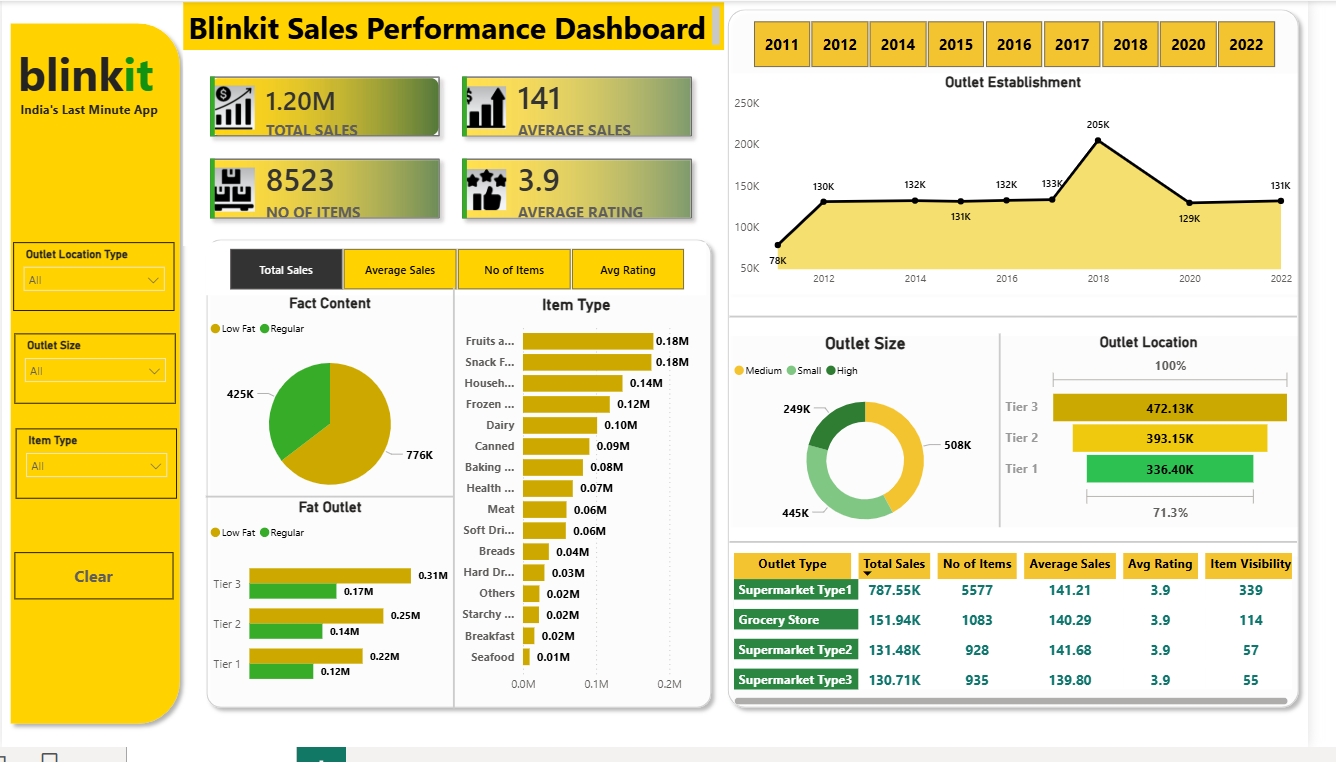

What the dashboard file says about the page in this screenshot:
{"tool":"powerbi","page":{"name":"Blinkit dashboard","canvas":[1400,800],"ordinal":0},"visuals":[{"type":"shape","box":[0,14.7,199.7,769.4],"z":0},{"type":"textbox","box":[12.1,40.2,156.8,75.1],"z":1000},{"type":"textbox","box":[14.7,101.9,159.5,34.9],"z":2000},{"type":"cardVisual","fields":{"Data":["Measure Table.Total Sales","Measure Table.Average Sales","Measure Table.No of Items","Measure Table.Avg Rating"]},"box":[194.3,52.9,574.3,210],"z":3000},{"type":"shape","box":[210.5,246.7,559,520.1],"z":4000},{"type":"pieChart","title":"Fact Content","fields":{"Y":["Measure Table.Total Sales"],"Category":["BlinkIT Grocery Data.Item Fat Content"]},"box":[218.5,315,266.8,231.9],"z":5000},{"type":"slicer","fields":{"Values":["Metrics.Metrics"]},"box":[218.6,258.6,537.1,57.1],"z":6000},{"type":"clusteredBarChart","title":"Fat Outlet","fields":{"Y":["Measure Table.Total Sales"],"Category":["BlinkIT Grocery Data.Outlet Location Type"],"Series":["BlinkIT Grocery Data.Item Fat Content"]},"box":[218.5,533.5,266.8,217.2],"z":7000},{"type":"shape","box":[218.5,506.7,266.8,49.6],"z":8000},{"type":"shape","box":[459.8,307,49.6,451.7],"z":9000},{"type":"barChart","title":"Item Type","fields":{"Y":["Measure Table.Total Sales"],"Category":["BlinkIT Grocery Data.Item Type"]},"box":[475.9,315,280.2,435.7],"z":10000},{"type":"shape","box":[769.4,0,630,766.8],"z":11000},{"type":"lineChart","title":"Outlet Establishment","fields":{"Category":["BlinkIT Grocery Data.Outlet Establishment Year"],"Y":["Measure Table.Total Sales"]},"box":[780,77.1,608.6,237.1],"z":12000},{"type":"shape","box":[780,317.1,608.6,41.4],"z":13000},{"type":"donutChart","title":"Outlet Size","fields":{"Y":["Measure Table.Total Sales"],"Category":["BlinkIT Grocery Data.Outlet Size"]},"box":[780,357.1,291.4,224.3],"z":14000},{"type":"shape","box":[1044.3,357.1,51.4,225.7],"z":15000},{"type":"funnel","title":"Outlet Location","fields":{"Category":["BlinkIT Grocery Data.Outlet Location Type"],"Y":["Measure Table.Total Sales"]},"box":[1071.4,357.1,317.1,207.1],"z":16000},{"type":"shape","box":[780,564.3,608.6,31.4],"z":17000},{"type":"pivotTable","fields":{"Rows":["BlinkIT Grocery Data.Outlet Type"],"Values":["Measure Table.Total Sales","Measure Table.No of Items","Measure Table.Average Sales","Measure Table.Avg Rating","Sum(BlinkIT Grocery Data.Item Visibility)"]},"box":[780,587.1,608.6,172.9],"z":18000},{"type":"slicer","fields":{"Values":["BlinkIT Grocery Data.Outlet Location Type"]},"box":[12.1,258.7,172.9,73.7],"z":19000},{"type":"slicer","fields":{"Values":["BlinkIT Grocery Data.Outlet Size"]},"box":[13.4,356.6,172.9,75.1],"z":20000},{"type":"slicer","fields":{"Values":["BlinkIT Grocery Data.Item Type"]},"box":[14.7,458.4,172.9,75.1],"z":21000},{"type":"actionButton","title":"Cleasr ","box":[12.9,591.4,170,50],"z":22000},{"type":"textbox","box":[194.3,1.4,580,51.4],"z":23000},{"type":"slicer","fields":{"Values":["BlinkIT Grocery Data.Outlet Establishment Year"]},"box":[780,14.3,608.6,62.9],"z":24000}]}

Visuals, with their boxes in screenshot pixels (x1, y1, x2, y2), scaled from the page's 1400x800 canvas onto the 1336x762 screenshot:
shape: <box>0,14,191,747</box>
textbox: <box>12,38,161,110</box>
textbox: <box>14,97,166,130</box>
cardVisual - Measure Table.Total Sales x Measure Table.Average Sales: <box>185,50,733,250</box>
shape: <box>201,235,734,730</box>
"Fact Content" pieChart: <box>209,300,463,521</box>
slicer - Metrics.Metrics: <box>209,246,721,301</box>
"Fat Outlet" clusteredBarChart: <box>209,508,463,715</box>
shape: <box>209,483,463,530</box>
shape: <box>439,292,486,723</box>
"Item Type" barChart: <box>454,300,722,715</box>
shape: <box>734,0,1335,730</box>
"Outlet Establishment" lineChart: <box>744,73,1325,299</box>
shape: <box>744,302,1325,341</box>
"Outlet Size" donutChart: <box>744,340,1022,554</box>
shape: <box>997,340,1046,555</box>
"Outlet Location" funnel: <box>1022,340,1325,537</box>
shape: <box>744,537,1325,567</box>
pivotTable - BlinkIT Grocery Data.Outlet Type x Measure Table.Total Sales: <box>744,559,1325,724</box>
slicer - BlinkIT Grocery Data.Outlet Location Type: <box>12,246,177,317</box>
slicer - BlinkIT Grocery Data.Outlet Size: <box>13,340,178,411</box>
slicer - BlinkIT Grocery Data.Item Type: <box>14,437,179,508</box>
"Cleasr " actionButton: <box>12,563,175,611</box>
textbox: <box>185,1,739,50</box>
slicer - BlinkIT Grocery Data.Outlet Establishment Year: <box>744,14,1325,74</box>
